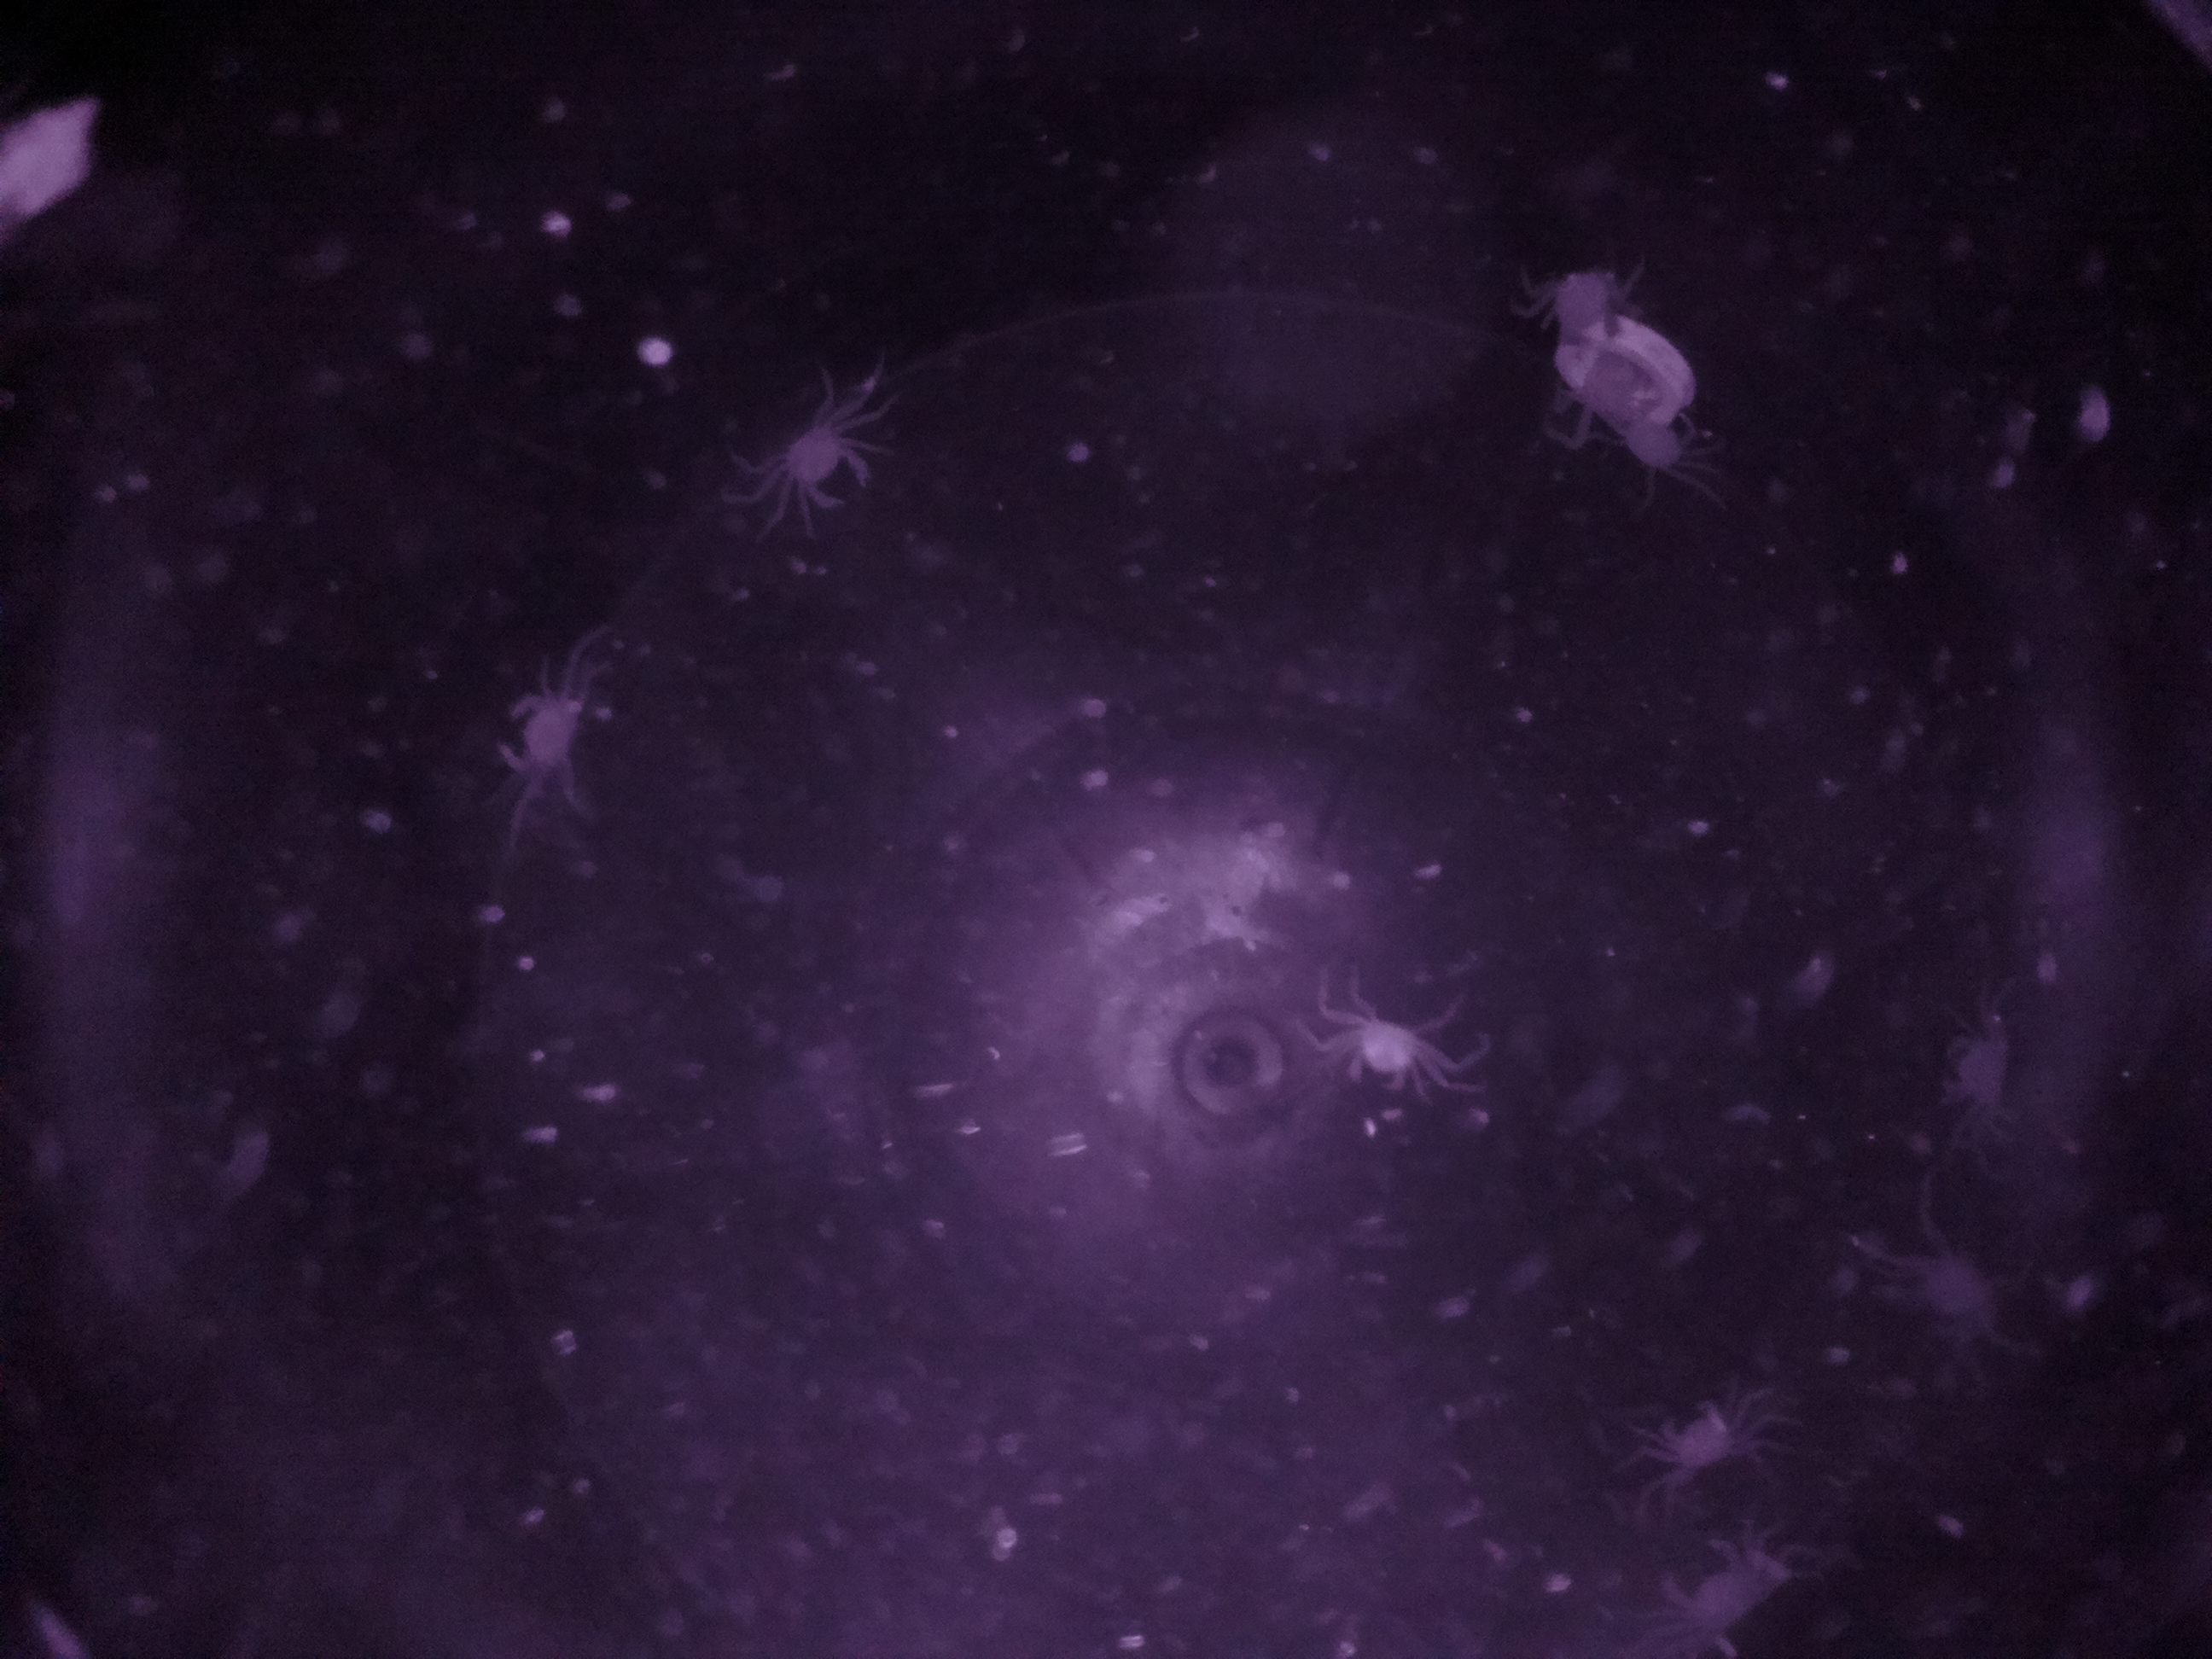Crab: (1649, 1525, 1799, 1652), (758, 397, 883, 526), (484, 673, 610, 796), (1322, 985, 1442, 1112), (1601, 378, 1717, 502), (1928, 1018, 2043, 1140), (1534, 247, 1646, 364), (1644, 1385, 1747, 1490)
